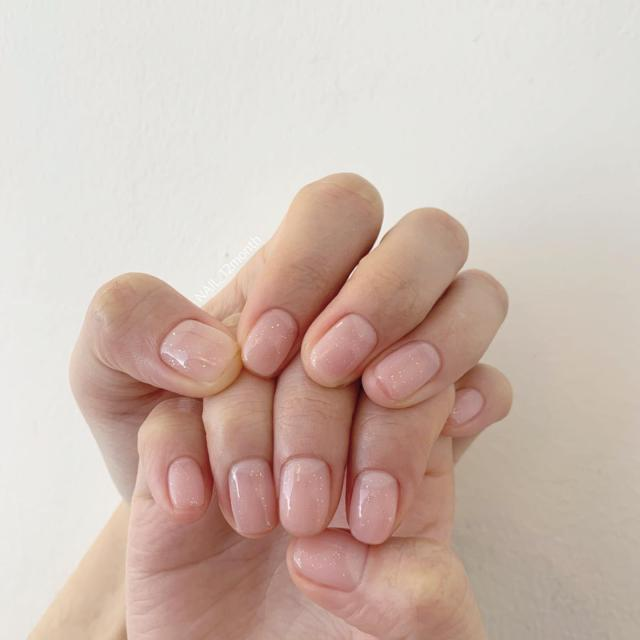Nail: (308, 314, 378, 386), (160, 320, 239, 382), (291, 529, 368, 591), (279, 458, 330, 535), (374, 341, 441, 399), (242, 309, 299, 377), (349, 470, 399, 544), (229, 459, 276, 534), (168, 458, 205, 510), (448, 388, 484, 426)
